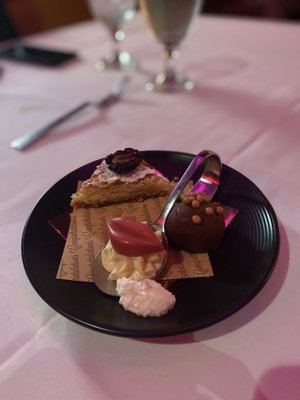sandwich: (9, 71, 134, 151)
